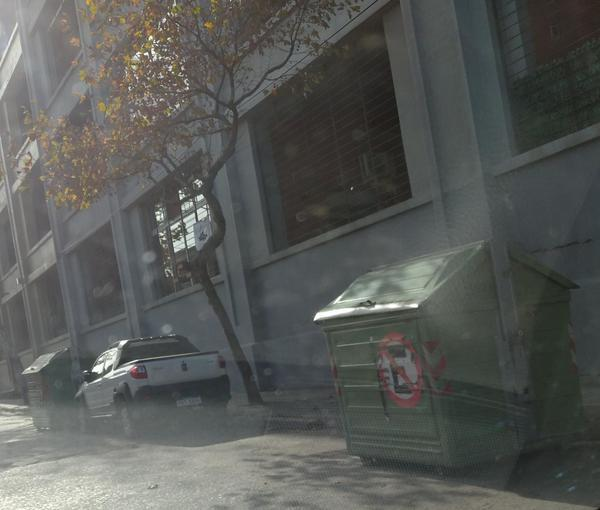Trash: (314, 241, 582, 470), (22, 347, 93, 429)
